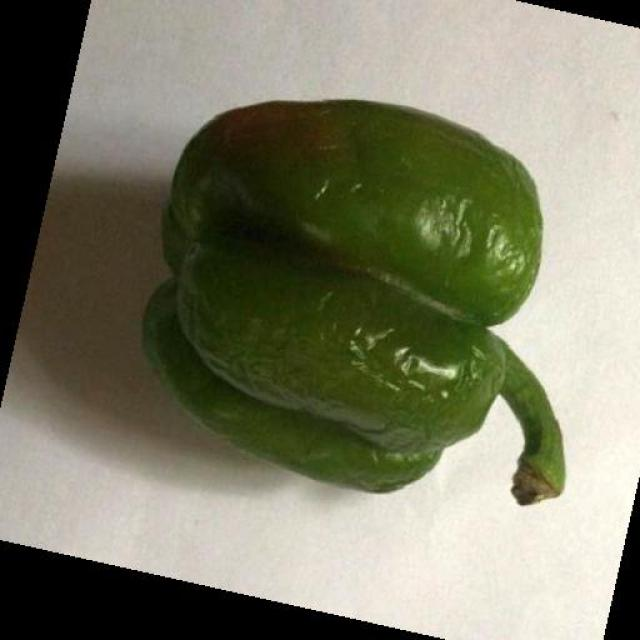Stale_Capsicum: (162, 70, 570, 526)
